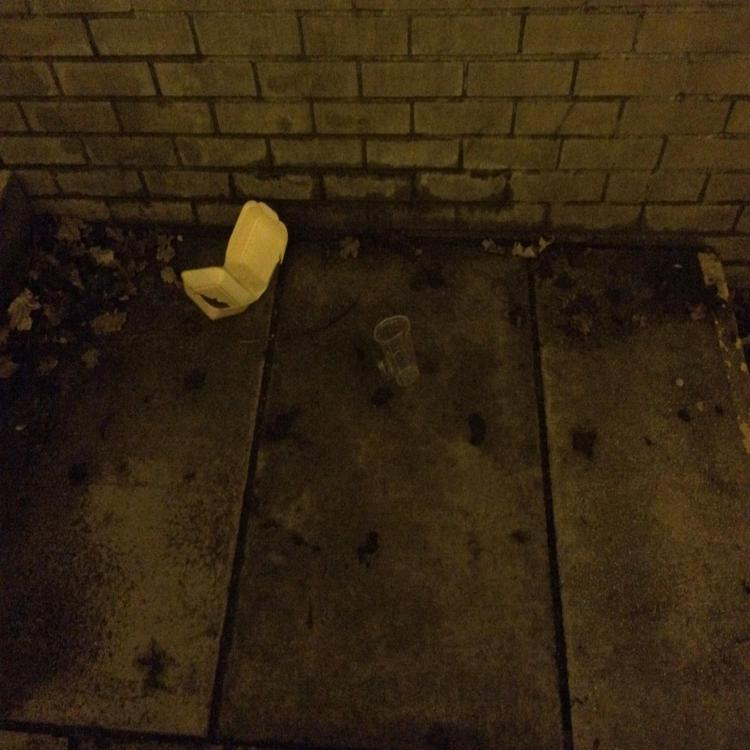Disposable plastic cup: (374, 315, 419, 385)
